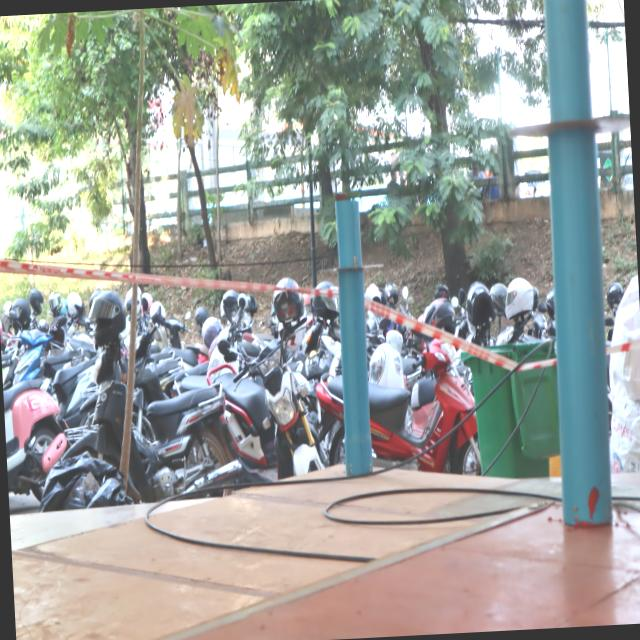pole: (496, 0, 630, 222), (314, 188, 390, 334)
